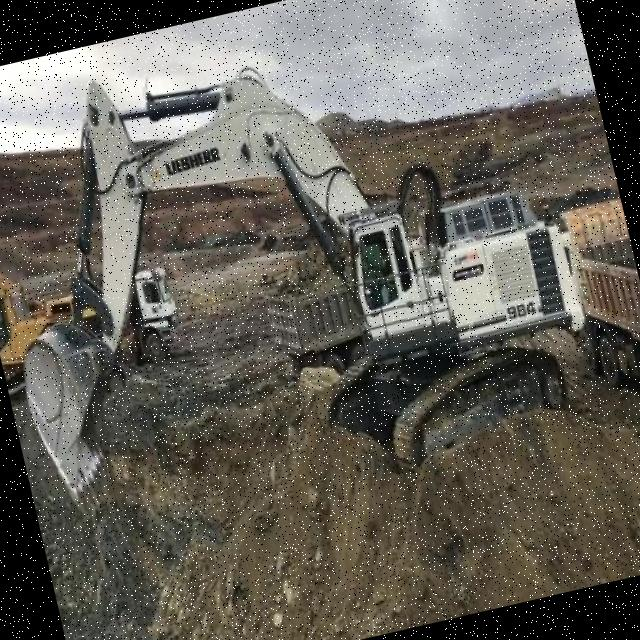Dump Truck: (552, 194, 640, 433), (252, 235, 370, 384), (119, 262, 184, 362)
Excavator: (0, 0, 613, 561)
